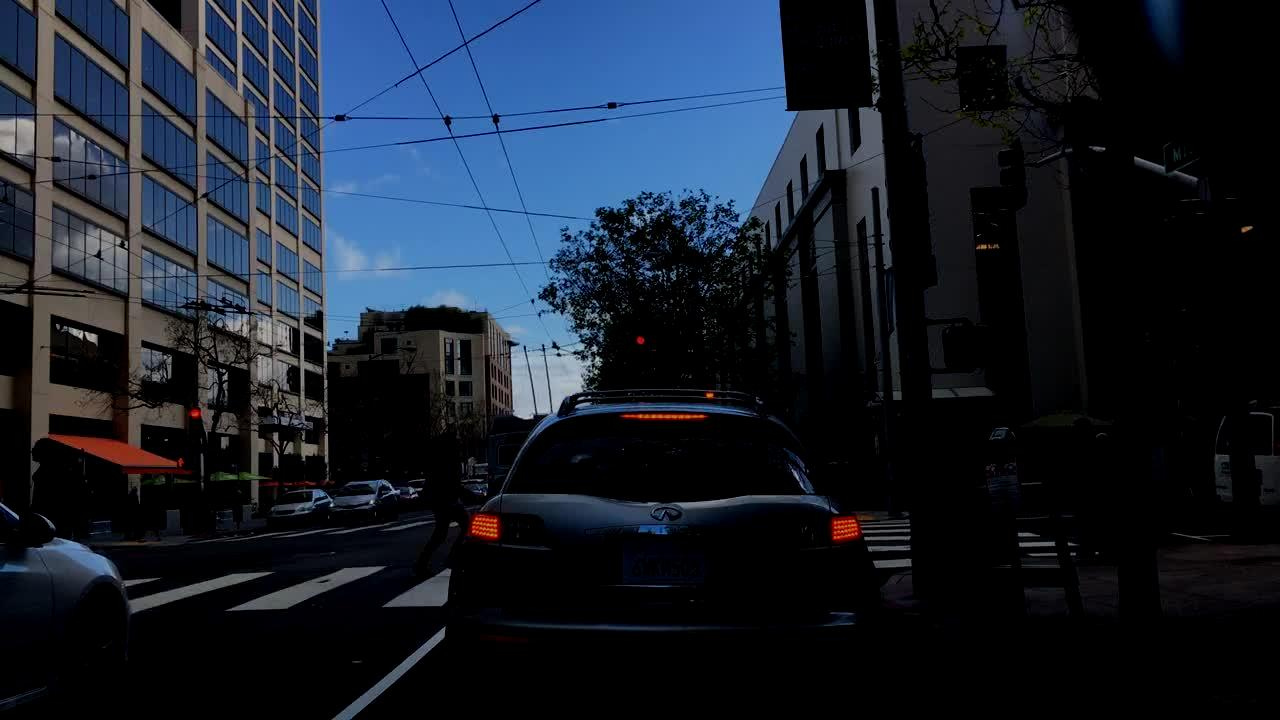Infiniti: (646, 501, 686, 526)
